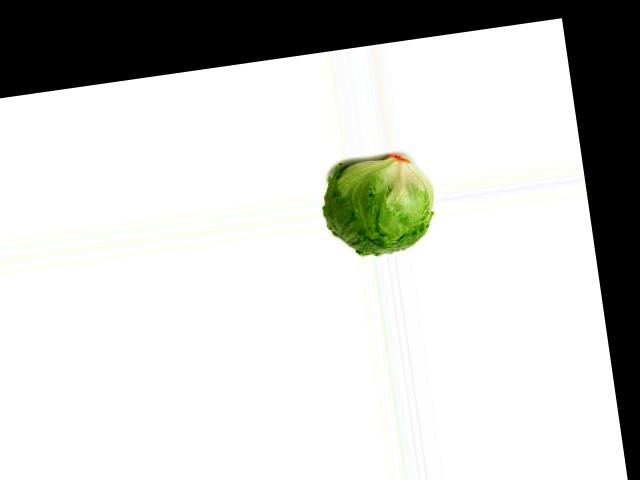lettuce: (317, 153, 434, 262)
